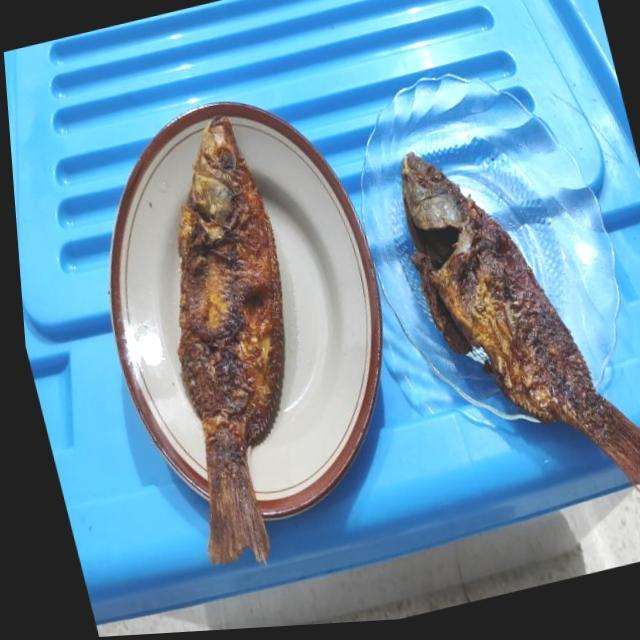ikan_mujair: (401, 151, 640, 488), (178, 114, 284, 564)
